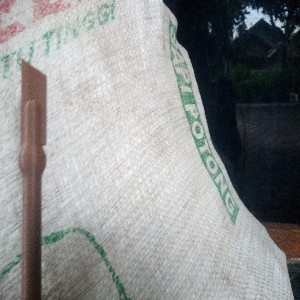cutter: (15, 58, 49, 300)
